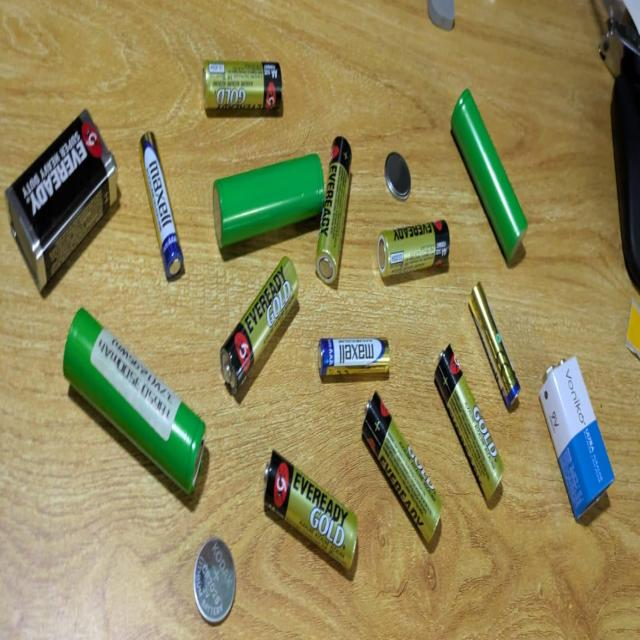9V: (5, 108, 119, 291), (539, 354, 615, 522)
AA: (362, 386, 444, 543), (218, 253, 300, 397), (263, 446, 358, 570), (435, 338, 506, 502), (313, 133, 352, 284), (375, 218, 449, 282), (202, 59, 284, 114)
AAA: (466, 275, 523, 415), (137, 129, 186, 284), (314, 333, 393, 384)
COIN: (193, 536, 236, 622), (384, 150, 412, 201)
